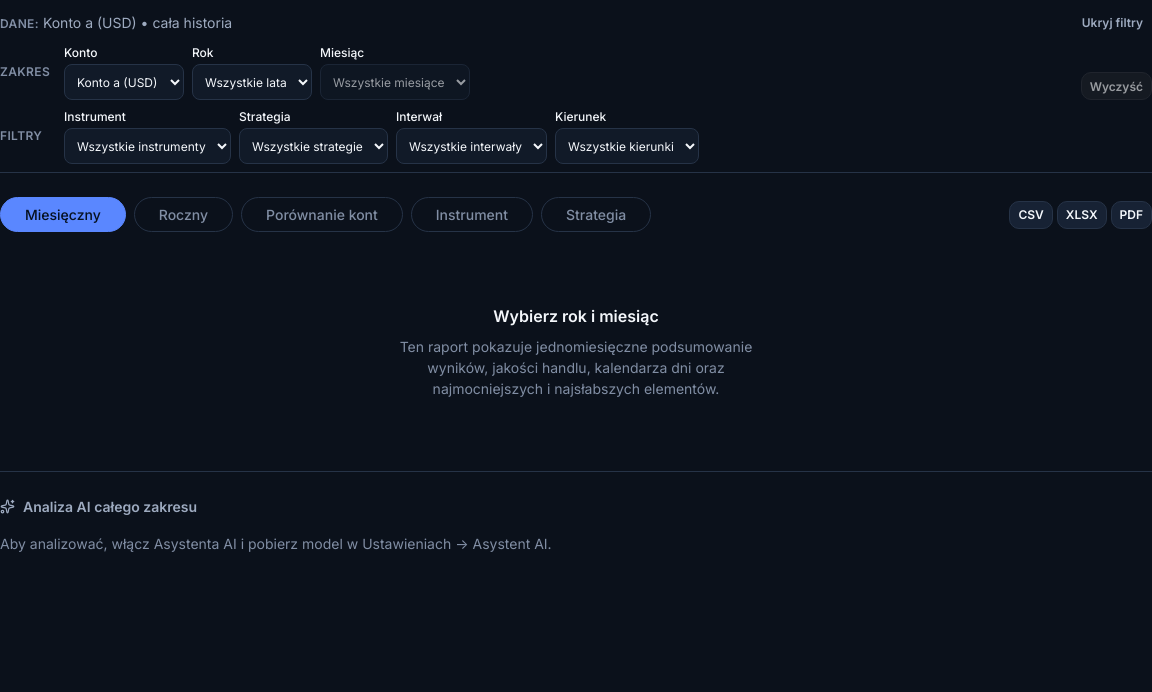
it: ReportsPage › przełączenie na 'Roczny' BEZ zapamiętanego filtru czyści pole miesiąca
The image size is (1152, 692).
Check: the tab "Miesięczny" is shown, box [0,197,126,232]
Select "2026" in the dropdown labelled "Rok" at [252, 82], box [192,64,312,100]
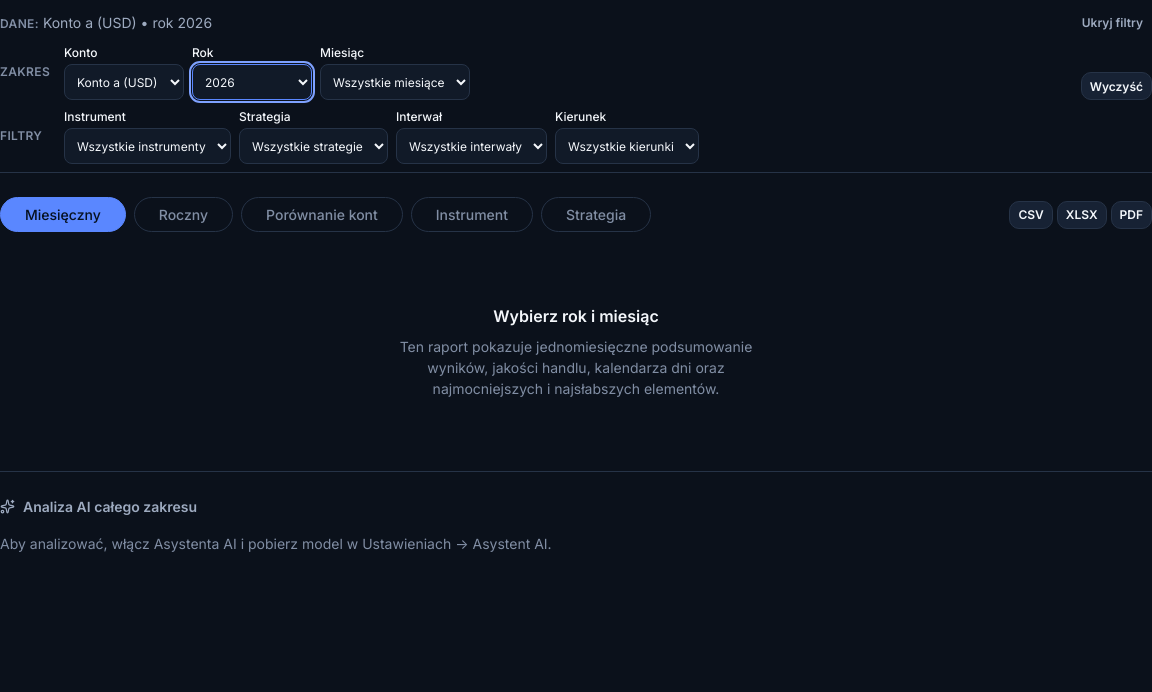
Select "Marzec" in the dropdown labelled "Miesiąc" at [395, 82], box [320,64,470,100]
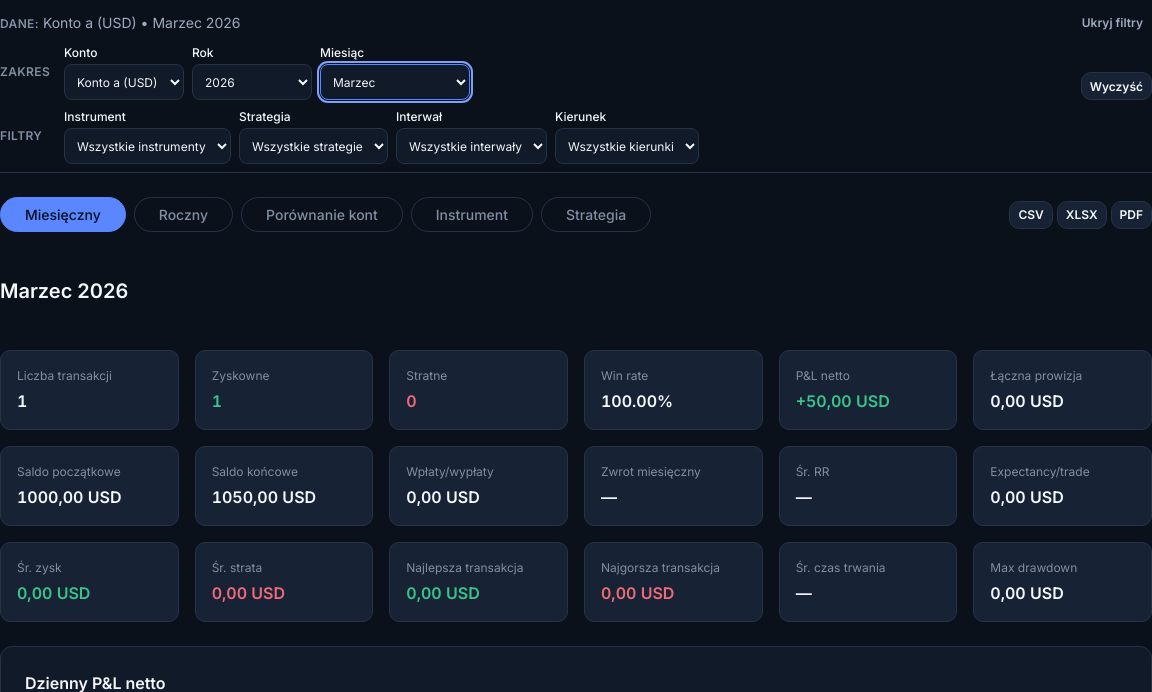
Click the tab "Roczny" at [183, 214], box [134,197,233,232]
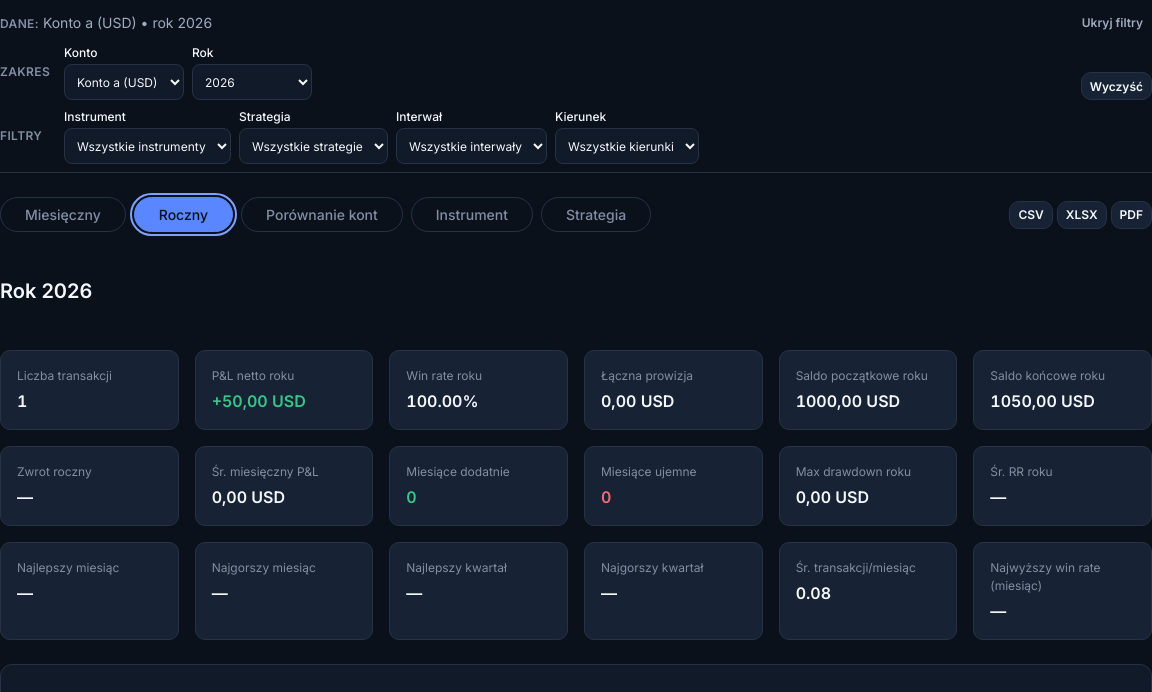
Click the tab "Instrument" at [472, 214], box [411,197,533,232]
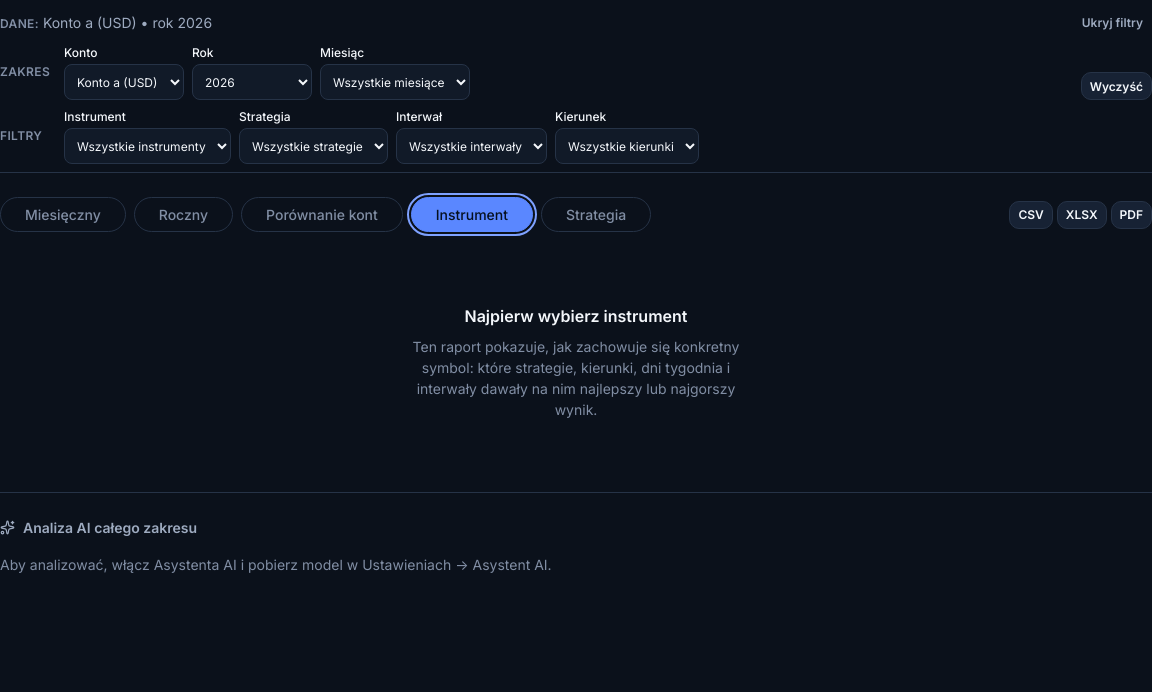
Check: the dropdown labelled "Miesiąc" shows "Wszystkie miesiące", box [320,64,470,100]
